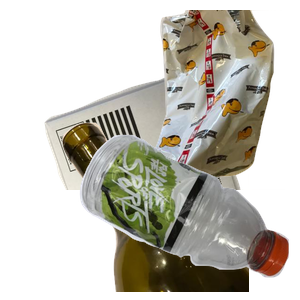glass: (60, 120, 300, 300)
paper: (42, 68, 275, 248)
plastic: (77, 132, 300, 300)
trash: (127, 10, 300, 190)
